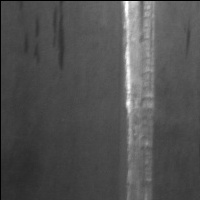inclusion: (50, 7, 68, 72), (22, 16, 42, 67), (180, 21, 194, 56)
scratches: (124, 1, 159, 200)
